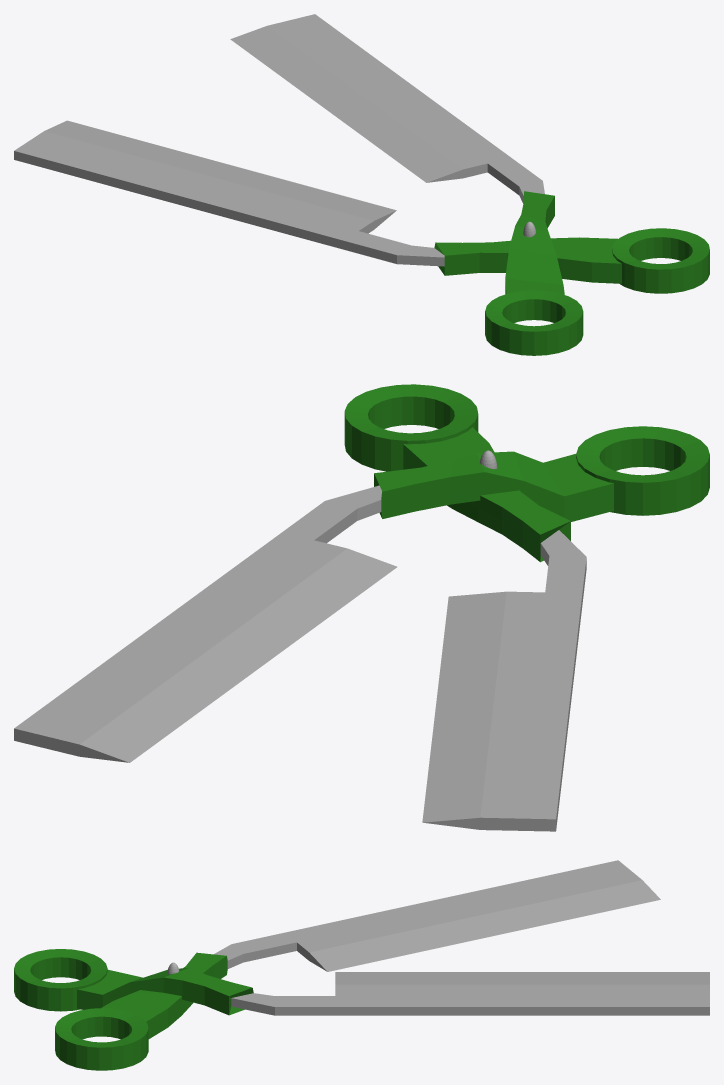
Rendered from Scissors.fbx.
3 views of the same model, one above another, from view 1: azimuth 30°, elevation 25°; view 2: azimuth 150°, elevation 25°; view 3: azimuth 270°, elevation 25° (orthographic). The views are drawn at different scales.
Visible parts, largest first — view 1: Circle.001, Circle; view 2: Circle, Circle.001; view 3: Circle, Circle.001.
Part boxes in pixels (x1,y1,x2,y2): Circle.001: (14,120,709,293); Circle: (230,14,583,355); Circle: (14,426,709,762); Circle.001: (344,384,586,831); Circle: (14,949,709,1015); Circle.001: (55,860,660,1070).
Size of the model in its own units: 986 by 128 by 1486.
